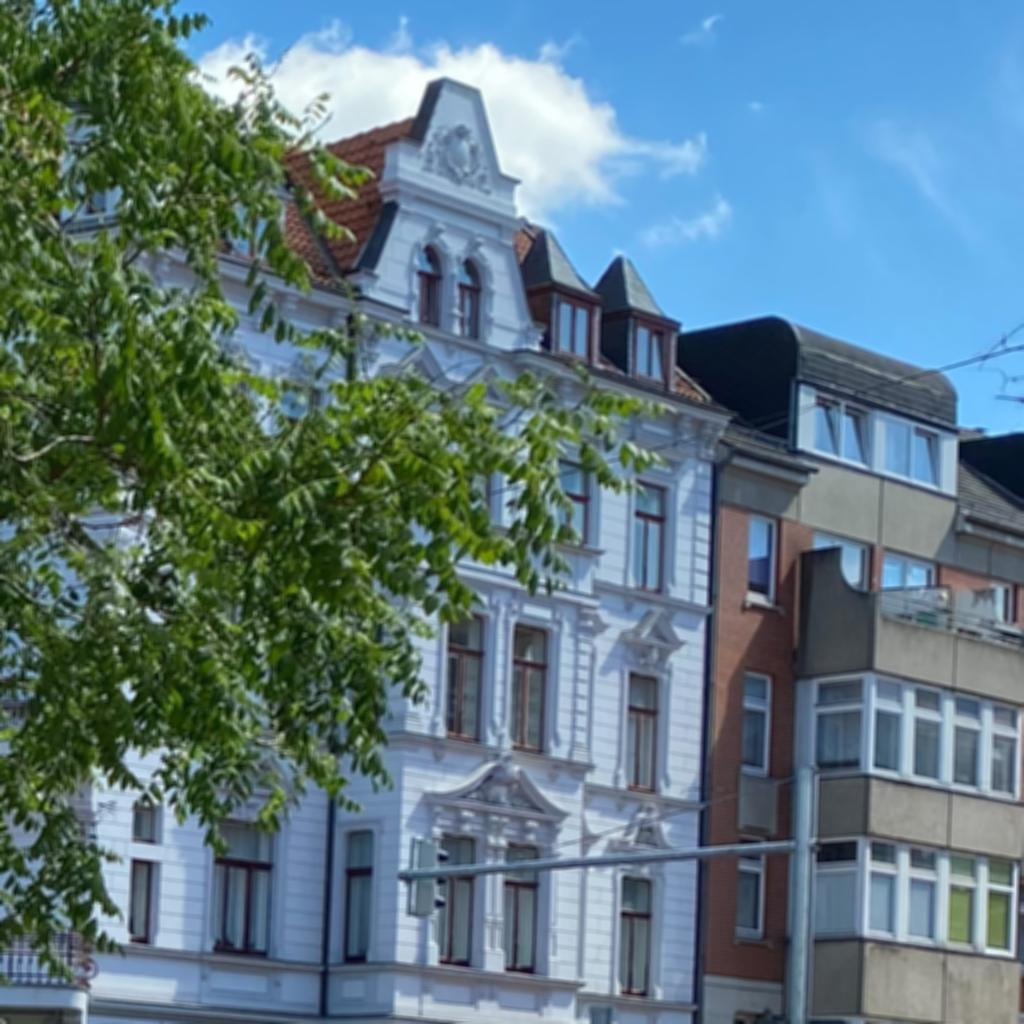tree: (1, 1, 679, 990)
